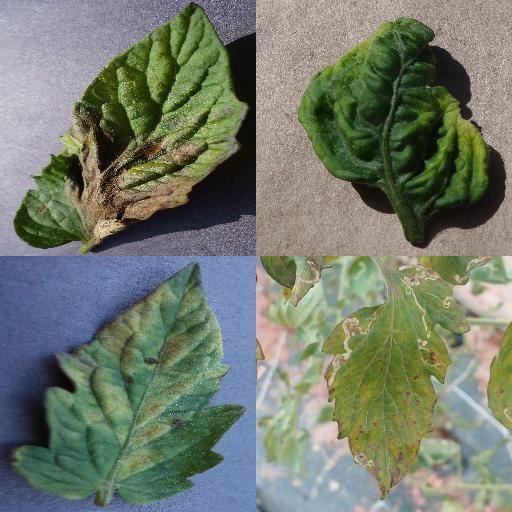Late Blight: (12, 2, 248, 250)
Leaf Miner: (321, 263, 471, 502)
Leaf Mold: (13, 261, 248, 503)
Yellow Leaf Curl Virus: (301, 17, 492, 229)
